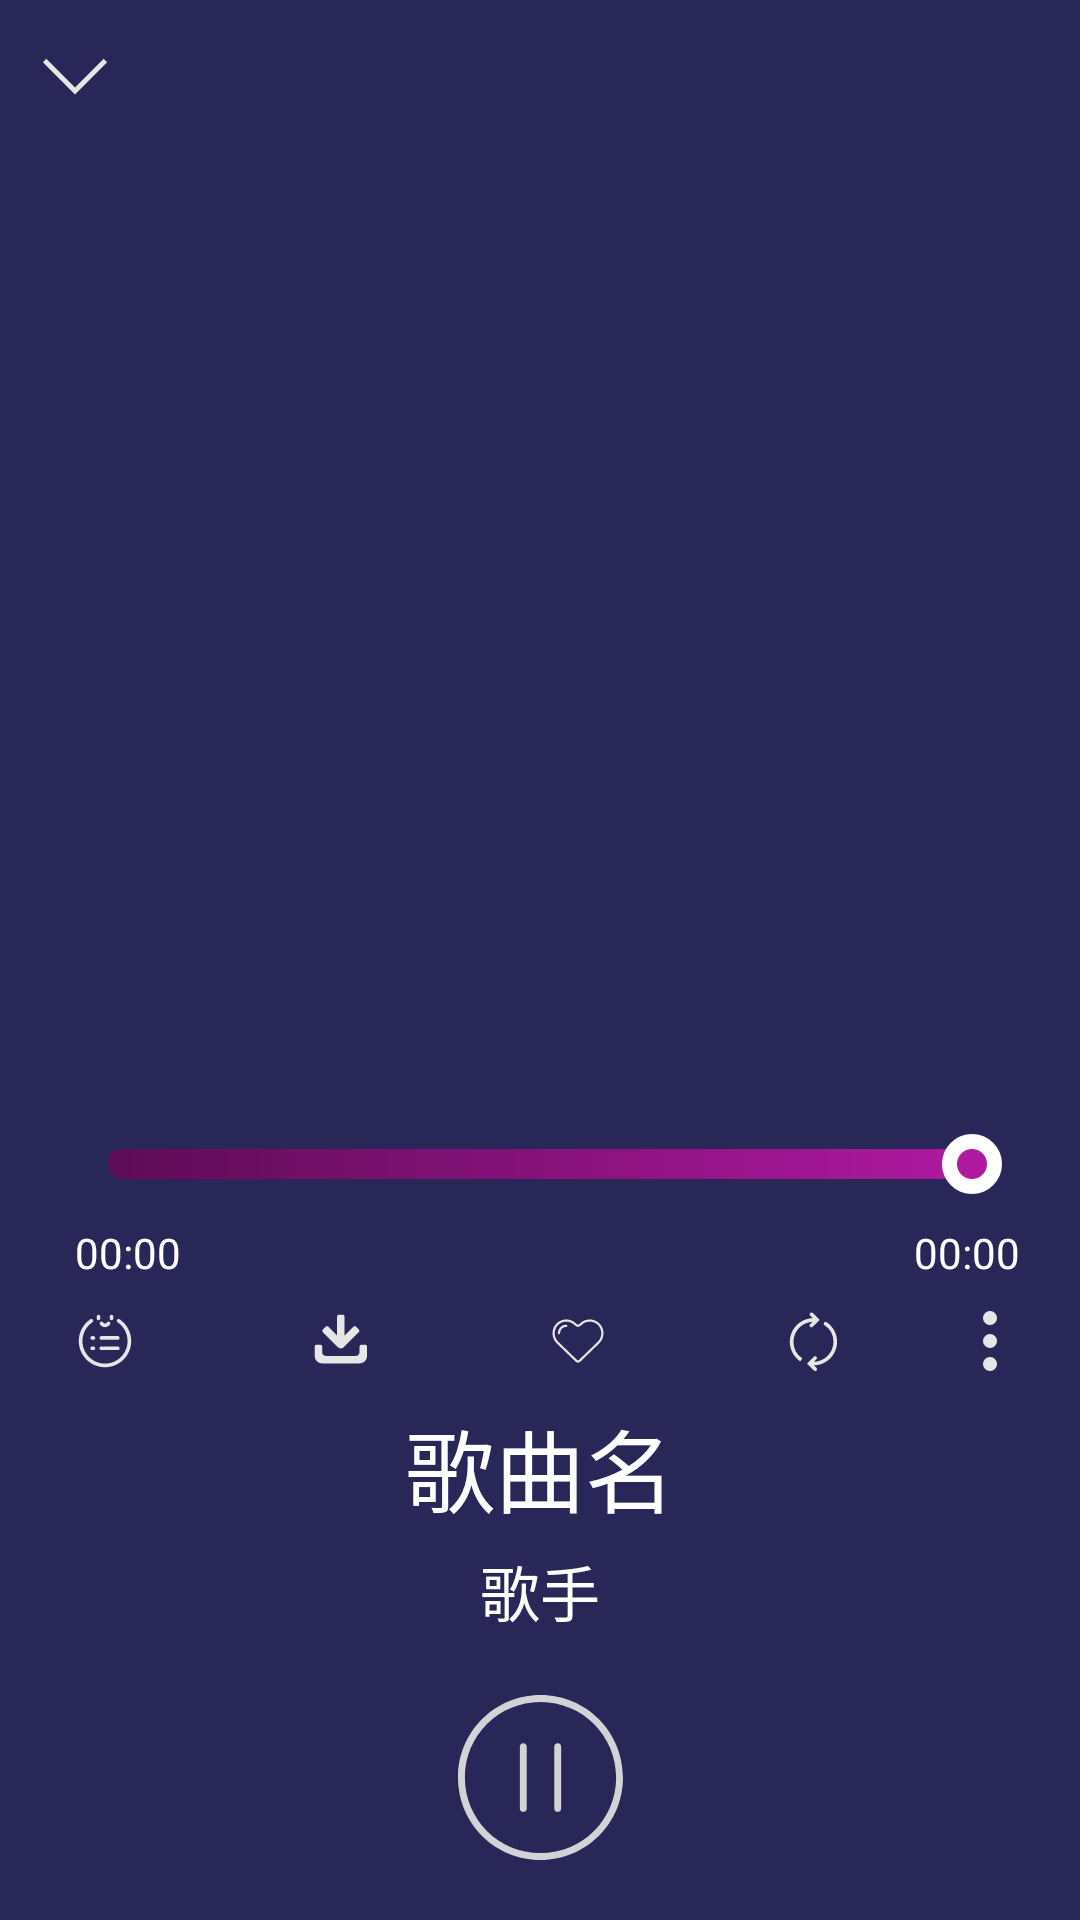

Named icons in this screenshot (1080w x 1920h) and their centers, (x=x, y=y):
all cycle: (x=813, y=1341)
down: (x=75, y=76)
download: (x=340, y=1339)
like: (x=578, y=1341)
menu: (x=990, y=1341)
pause: (x=540, y=1777)
